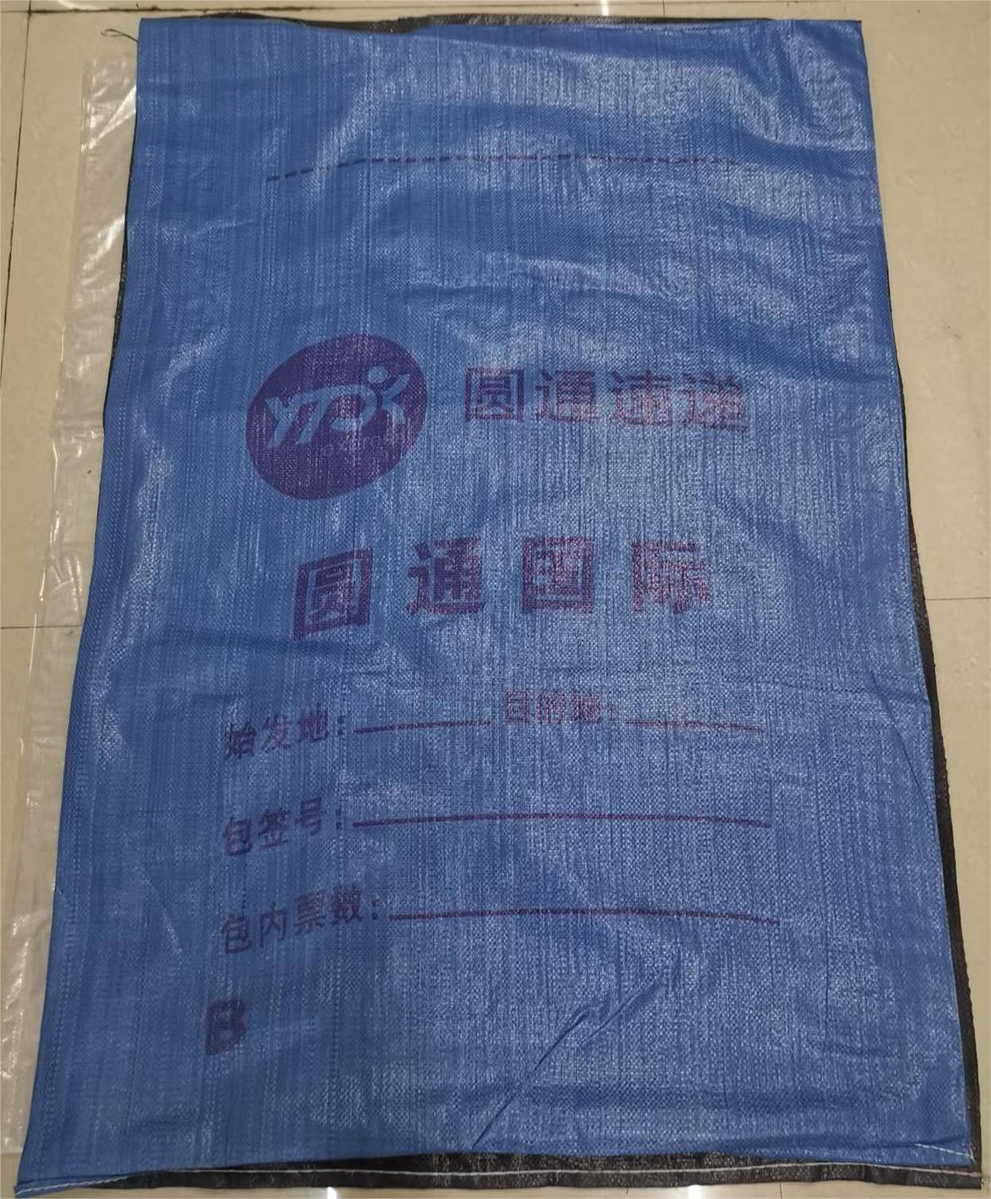塑料袋: (21, 19, 973, 1189)
